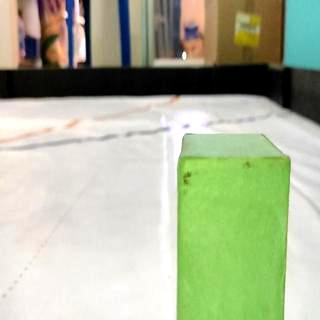greenbox: (175, 130, 292, 320)
